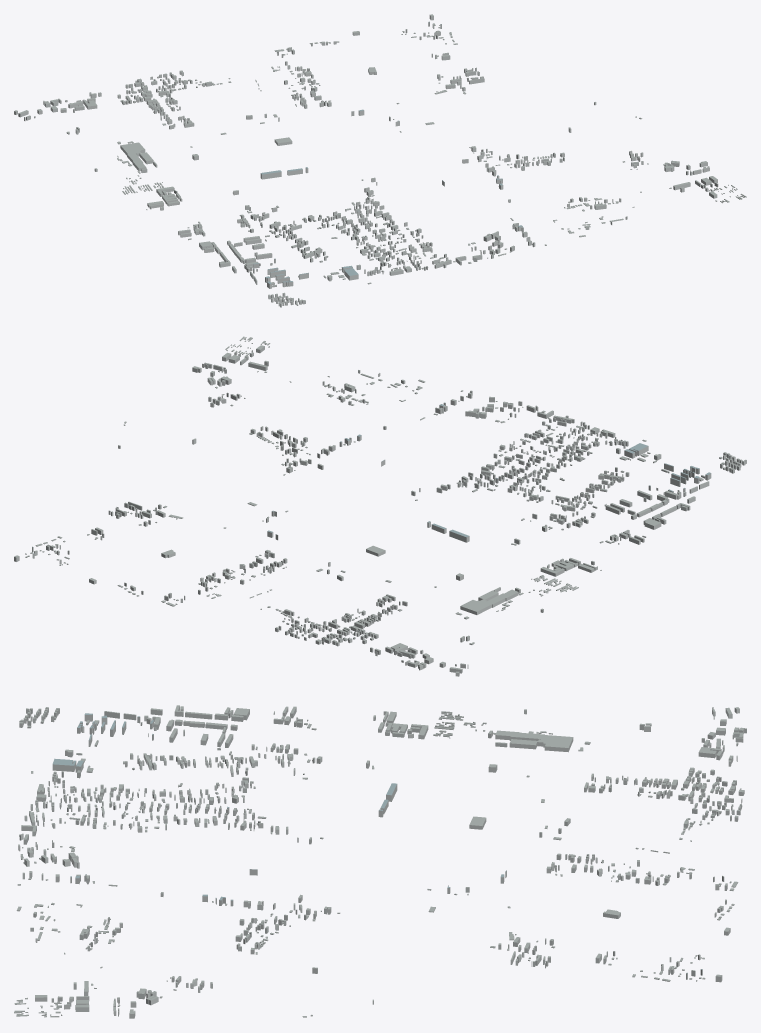
File: far.glb
The picture shows the model from 3 angles, top to bottom: view 1: azimuth 30°, elevation 25°; view 2: azimuth 150°, elevation 25°; view 3: azimuth 270°, elevation 25°; orthographic projection. The views are drawn at different scales.
Bounding box in the file's own units: 2118 × 23.4 × 2125.
